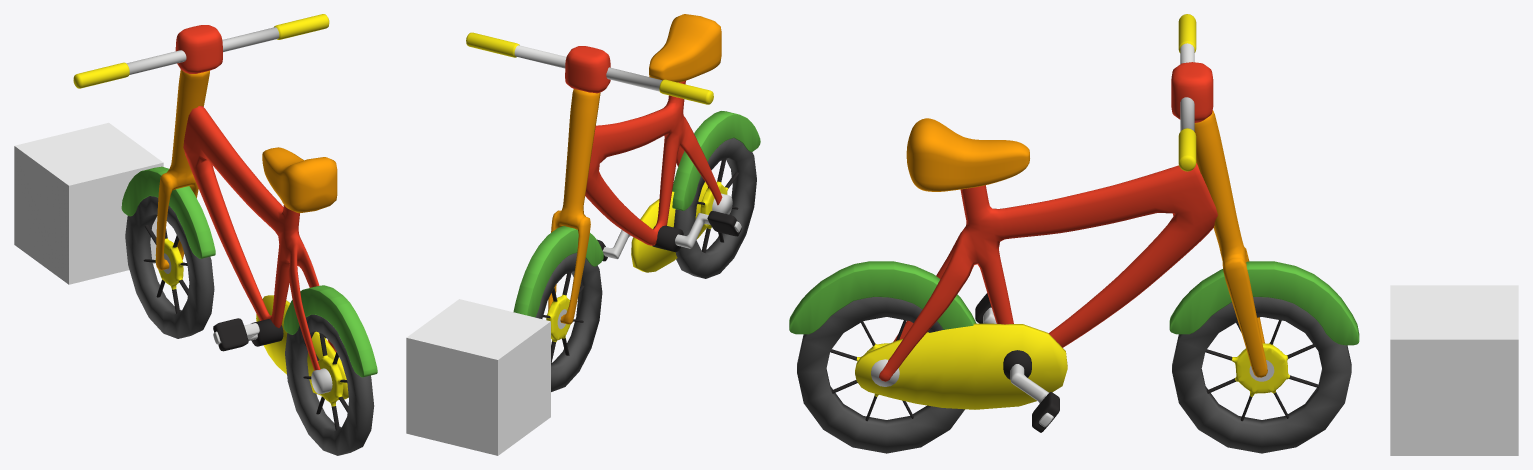
The model's file is VELIK (1) (2).glb.
The picture shows the model from 3 angles, left to right: view 1: azimuth 30°, elevation 25°; view 2: azimuth 150°, elevation 25°; view 3: azimuth 270°, elevation 25°; orthographic projection. The views are drawn at different scales.
Visible parts, largest first — view 1: VELIK (1), Cube; view 2: VELIK (1), Cube; view 3: VELIK (1), Cube.
Part boxes in pixels (bbox=[...]): VELIK (1): bbox=[73, 14, 377, 455]; Cube: bbox=[14, 122, 163, 284]; VELIK (1): bbox=[466, 14, 760, 391]; Cube: bbox=[406, 299, 550, 455]; VELIK (1): bbox=[789, 14, 1359, 453]; Cube: bbox=[1390, 285, 1518, 455].
Size of the model in its own units: 2.65 by 3.27 by 5.68.
